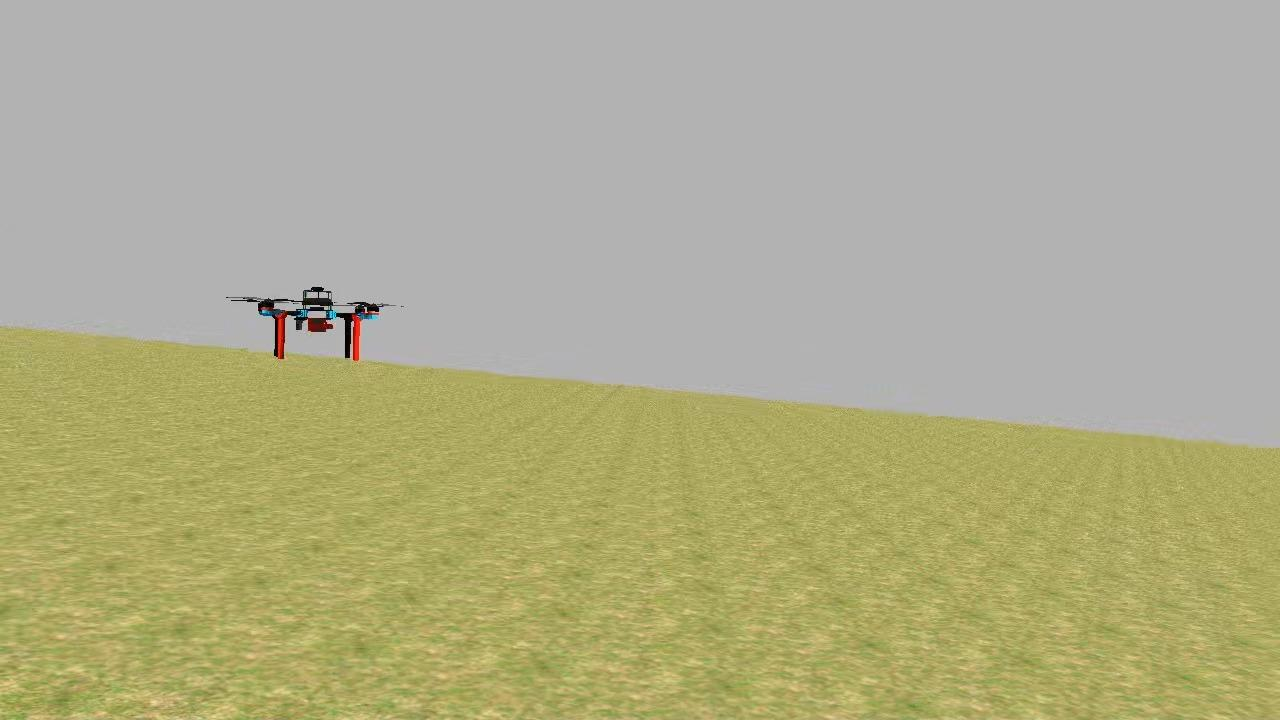UAV: (252, 284, 380, 368)
